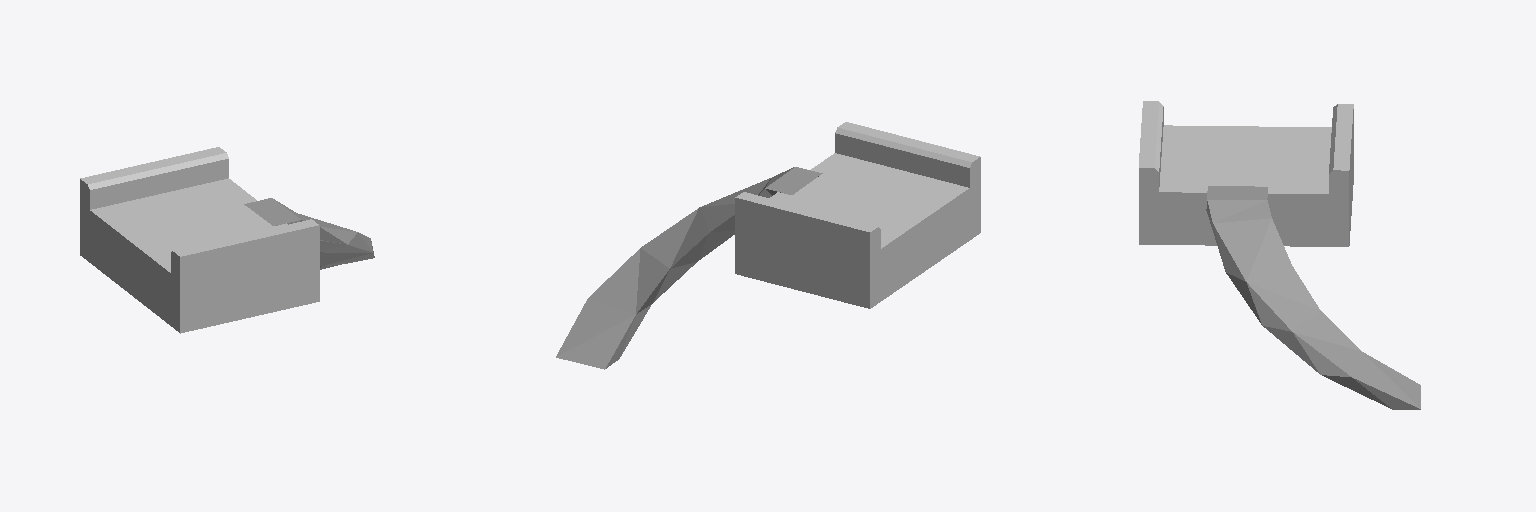
The model's file is Stairs.obj.
3 renders of one model, left to right at view 1: azimuth 30°, elevation 25°; view 2: azimuth 150°, elevation 25°; view 3: azimuth 270°, elevation 25°, orthographic.
Size of the model in its own units: 12.62 by 7.06 by 10.73.